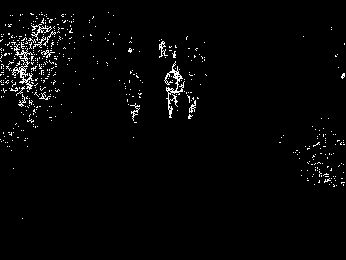person: (162, 61, 184, 116), (188, 66, 203, 120)
